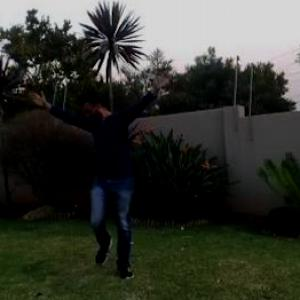takeoff: (21, 73, 186, 292)
